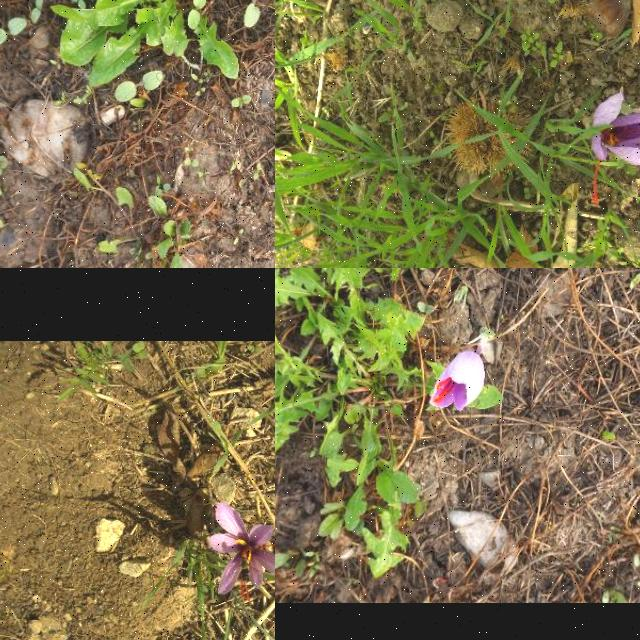flower: (209, 501, 275, 600), (590, 87, 640, 205), (430, 351, 486, 412)
